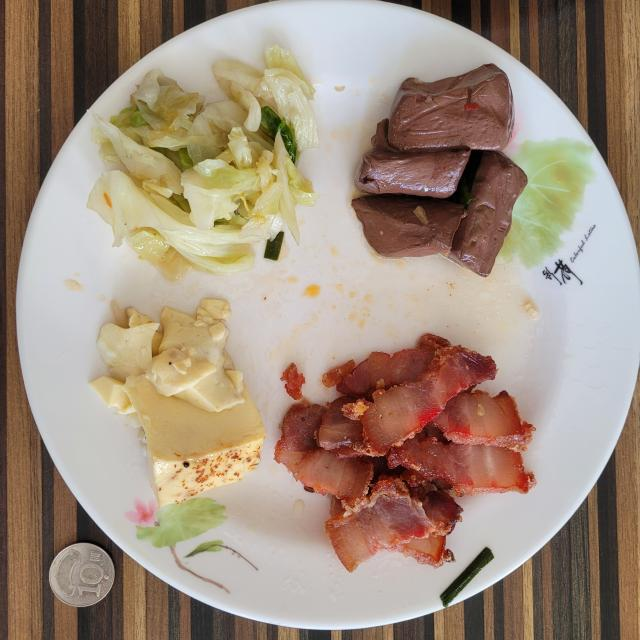cabbage: (88, 46, 319, 274)
coin: (49, 542, 115, 606)
pig blood curd: (352, 64, 528, 276)
red grilled pork: (275, 334, 535, 571), (282, 364, 305, 399)
